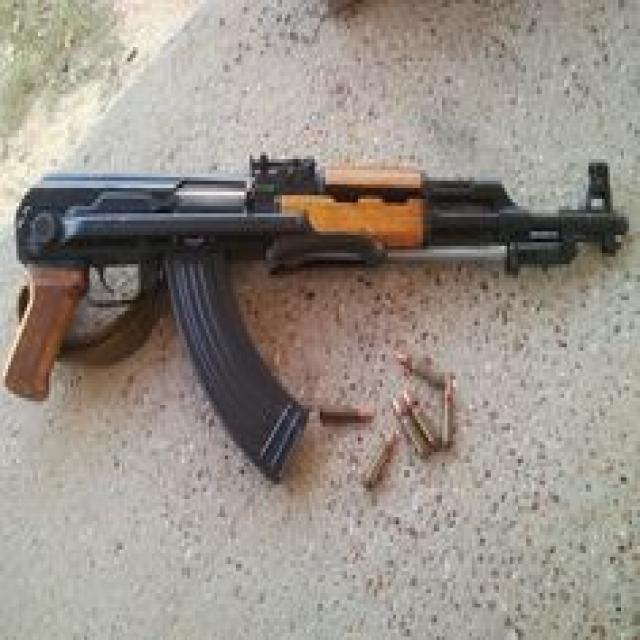ak: (14, 142, 636, 486)
